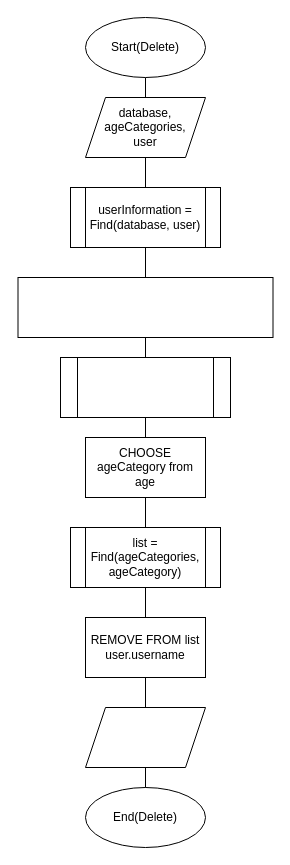
Some shapes in this 290 by 865 pixel diagram are drawn without their labels. Here are the shapes that lost their labels. From the top down, the centre of each, then its label:
point 145,307: age = [(DateTime.Now - userInformation.birthDate).TotalDays / 365.25]
point 145,387: Remove(database, user)
point 145,737: database, ageCategories
